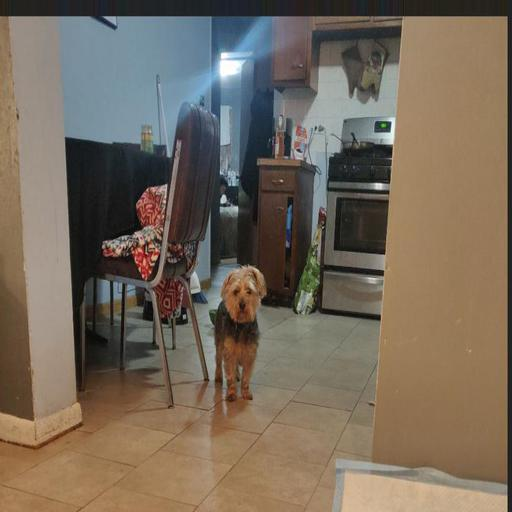dog: (196, 264, 291, 359)
